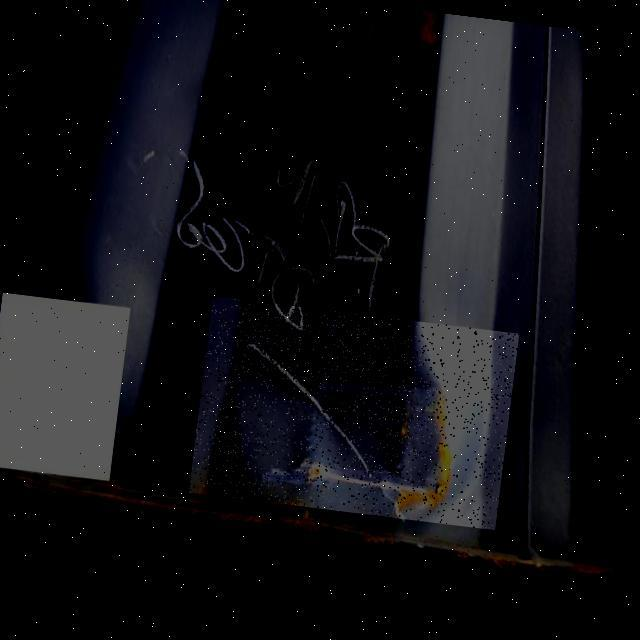Minor-Dent: (188, 296, 519, 530)
